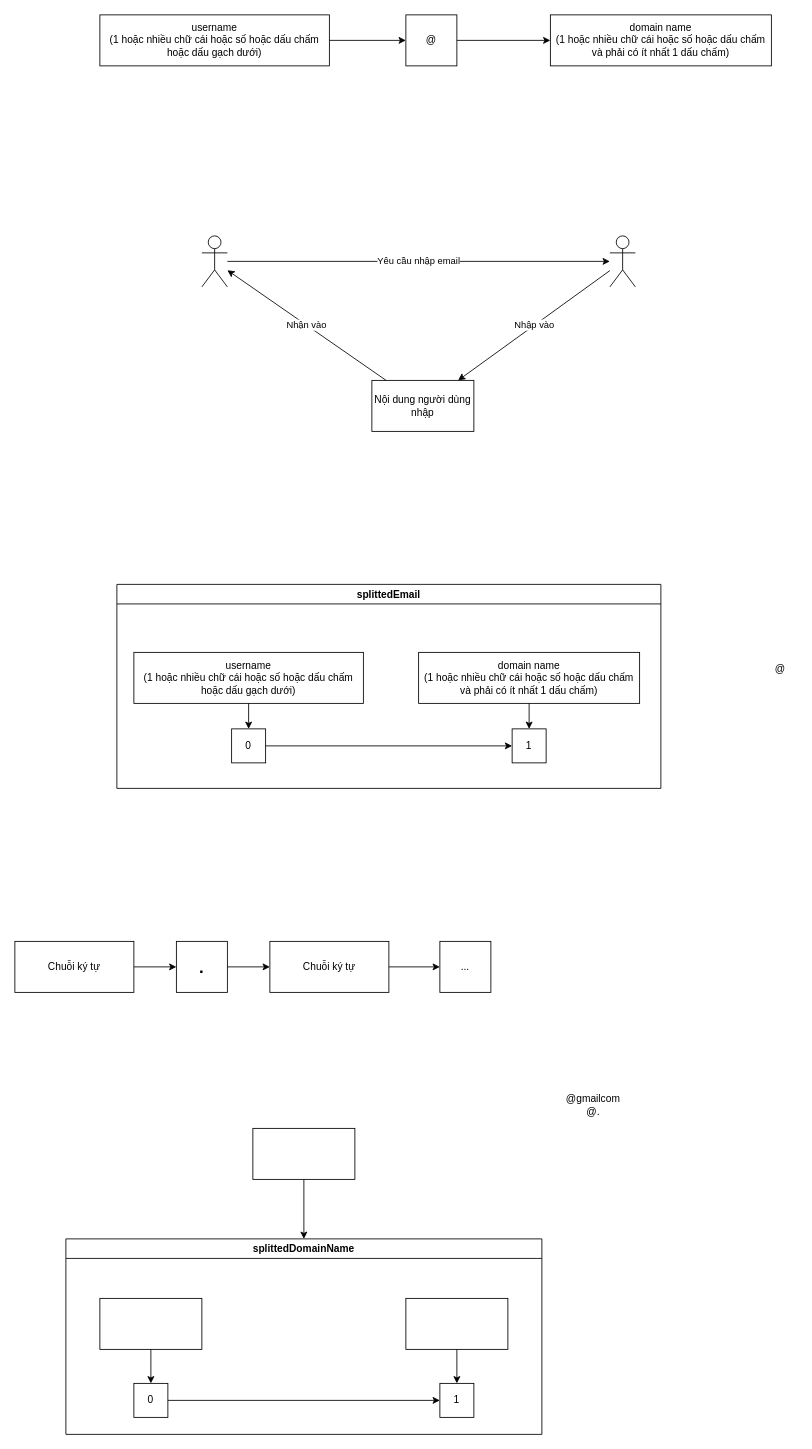
The diagram is 812 pixels wide and 1449 high, and some of its shapes have lost their labels. Each missing label, with the centre of its shape:
"Chương trình" belongs at [214,261].
"com" belongs at [456,1323].
"gmail" belongs at [150,1323].
"gmail.com" belongs at [303,1153].
"Người dùng" belongs at [622,261].
